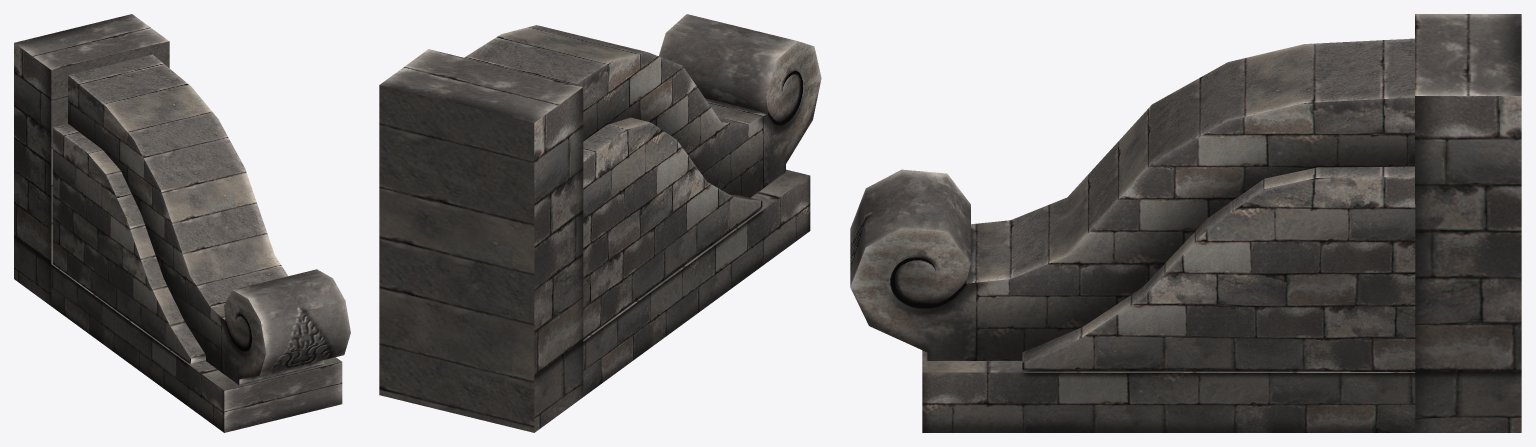
Rendered from Railing.FBX.
3 views of the same model, side by side, from view 1: azimuth 30°, elevation 25°; view 2: azimuth 150°, elevation 25°; view 3: azimuth 270°, elevation 25° (orthographic). The views are drawn at different scales.
Visible parts, largest first — view 1: Railing; view 2: Railing; view 3: Railing.
Boxes of the visible parts, left/top/right/bottom form: Railing: left=14, top=14, right=350, bottom=432; Railing: left=379, top=14, right=821, bottom=432; Railing: left=850, top=14, right=1521, bottom=432.
Bounding box in the file's own units: 0.6806 × 1.3 × 2.35.
